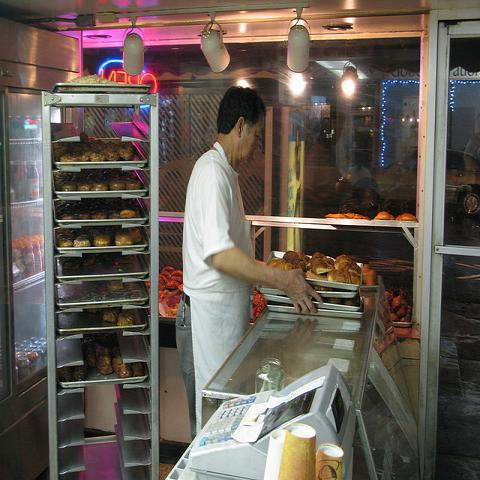car: (372, 147, 479, 217)
